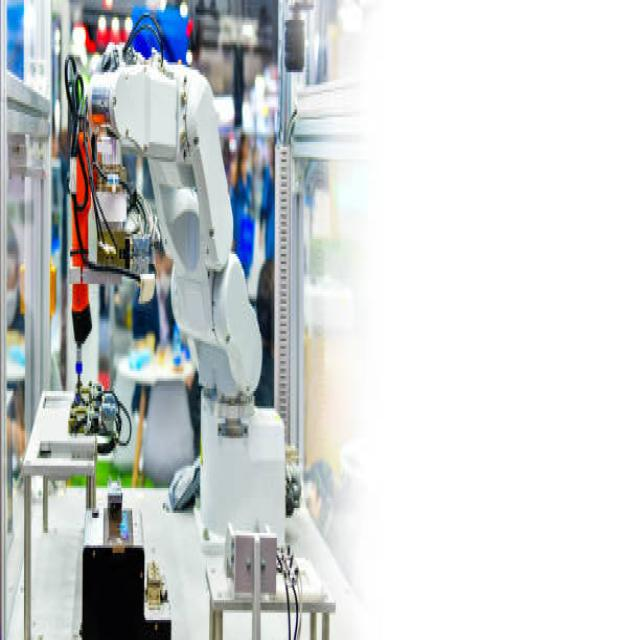Robotic-arm: (82, 2, 290, 538)
